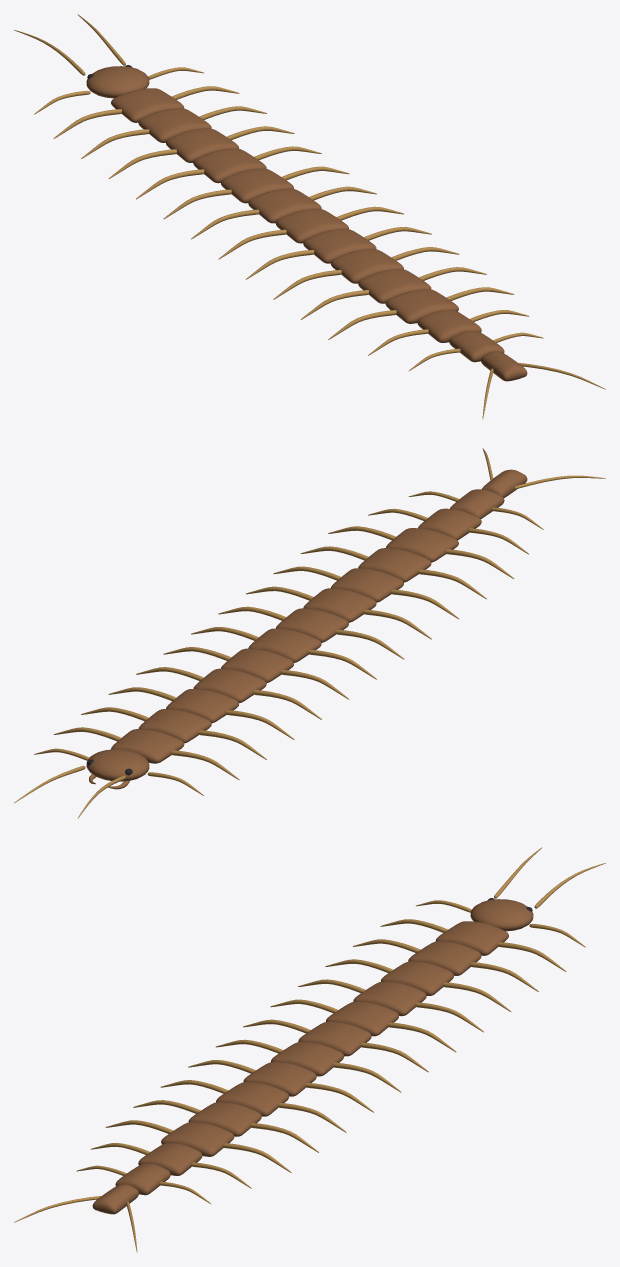
File: centipede.glb
3 renders of one model, top to bottom at view 1: azimuth 30°, elevation 25°; view 2: azimuth 150°, elevation 25°; view 3: azimuth 330°, elevation 25°, orthographic.
Parts seen in each view (by area): view 1: CPD_Shell11, CPD_Shell00, CPD_Shell02, CPD_Shell04, CPD_Shell10, CPD_Shell05, CPD_Shell01, CPD_Shell06, CPD_Shell09, CPD_Shell03, CPD_Shell07, CPD_Shell08 (+3 smaller); view 2: CPD_Shell00, CPD_Shell01, CPD_Shell10, CPD_Shell08, CPD_Shell02, CPD_Shell04, CPD_Shell06, CPD_Shell05, CPD_Shell09, CPD_Shell11, CPD_Shell07, CPD_Shell03 (+3 smaller); view 3: CPD_Shell11, CPD_Shell00, CPD_Shell02, CPD_Shell04, CPD_Shell10, CPD_Shell05, CPD_Shell01, CPD_Shell06, CPD_Shell09, CPD_Shell03, CPD_Shell07, CPD_Shell08 (+3 smaller).
Part boxes in pixels (bbox=[...]): CPD_Shell11: bbox=[385, 289, 458, 323]; CPD_Shell00: bbox=[86, 66, 149, 98]; CPD_Shell02: bbox=[138, 108, 211, 142]; CPD_Shell04: bbox=[193, 148, 266, 183]; CPD_Shell10: bbox=[358, 269, 431, 303]; CPD_Shell05: bbox=[221, 168, 293, 203]; CPD_Shell01: bbox=[111, 88, 184, 122]; CPD_Shell06: bbox=[248, 188, 321, 223]; CPD_Shell09: bbox=[330, 249, 403, 283]; CPD_Shell03: bbox=[166, 128, 238, 162]; CPD_Shell07: bbox=[275, 209, 348, 243]; CPD_Shell08: bbox=[303, 229, 376, 263]; CPD_Shell00: bbox=[86, 749, 149, 781]; CPD_Shell01: bbox=[111, 729, 184, 763]; CPD_Shell10: bbox=[358, 548, 431, 582]; CPD_Shell08: bbox=[303, 588, 376, 622]; CPD_Shell02: bbox=[138, 709, 211, 743]; CPD_Shell04: bbox=[193, 668, 266, 703]; CPD_Shell06: bbox=[248, 628, 321, 662]; CPD_Shell05: bbox=[221, 648, 293, 683]; CPD_Shell09: bbox=[331, 568, 403, 602]; CPD_Shell11: bbox=[386, 528, 458, 562]; CPD_Shell07: bbox=[276, 608, 348, 642]; CPD_Shell03: bbox=[166, 689, 238, 723]; CPD_Shell11: bbox=[161, 1122, 234, 1156]; CPD_Shell00: bbox=[470, 899, 533, 931]; CPD_Shell02: bbox=[408, 941, 481, 975]; CPD_Shell04: bbox=[353, 981, 426, 1016]; CPD_Shell10: bbox=[188, 1102, 261, 1136]; CPD_Shell05: bbox=[326, 1001, 398, 1036]; CPD_Shell01: bbox=[435, 921, 508, 955]; CPD_Shell06: bbox=[298, 1021, 371, 1056]; CPD_Shell09: bbox=[216, 1082, 289, 1116]; CPD_Shell03: bbox=[381, 961, 453, 995]; CPD_Shell07: bbox=[271, 1042, 344, 1076]; CPD_Shell08: bbox=[243, 1062, 316, 1096].
Bounding box in the file's own units: 0.0743 × 0.00968 × 0.3448.
